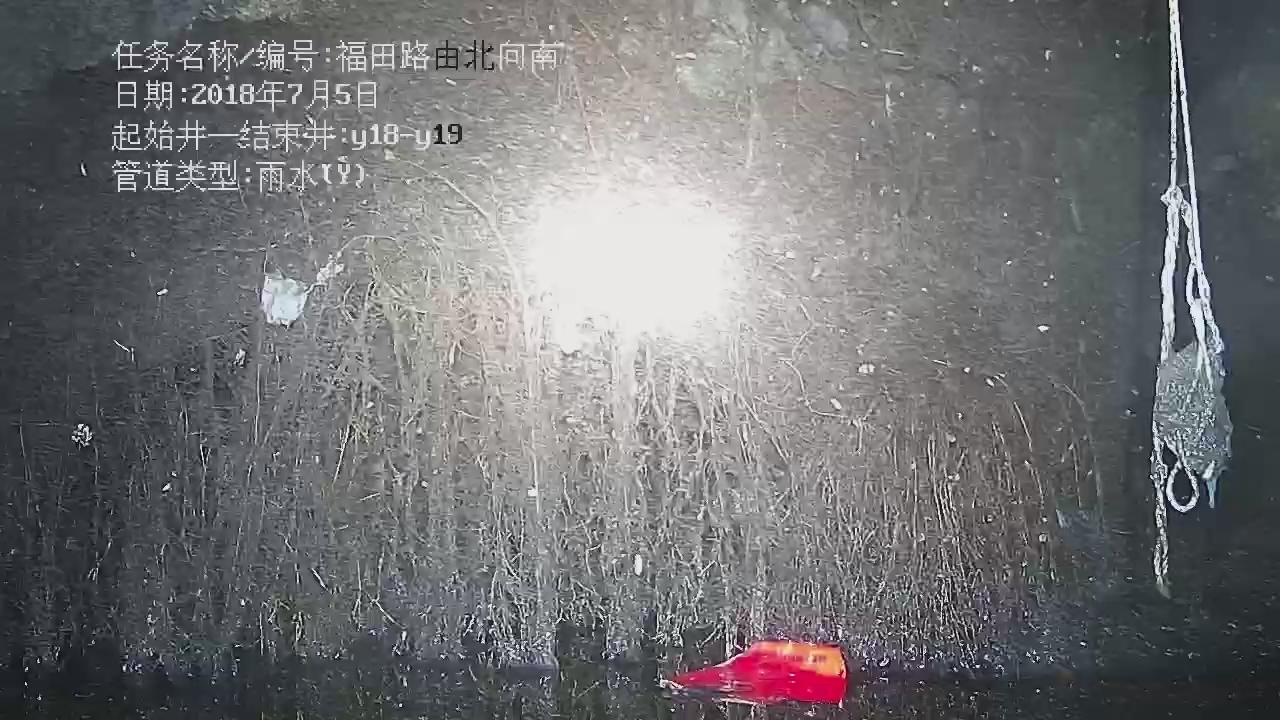SG: (0, 0, 1232, 676)
